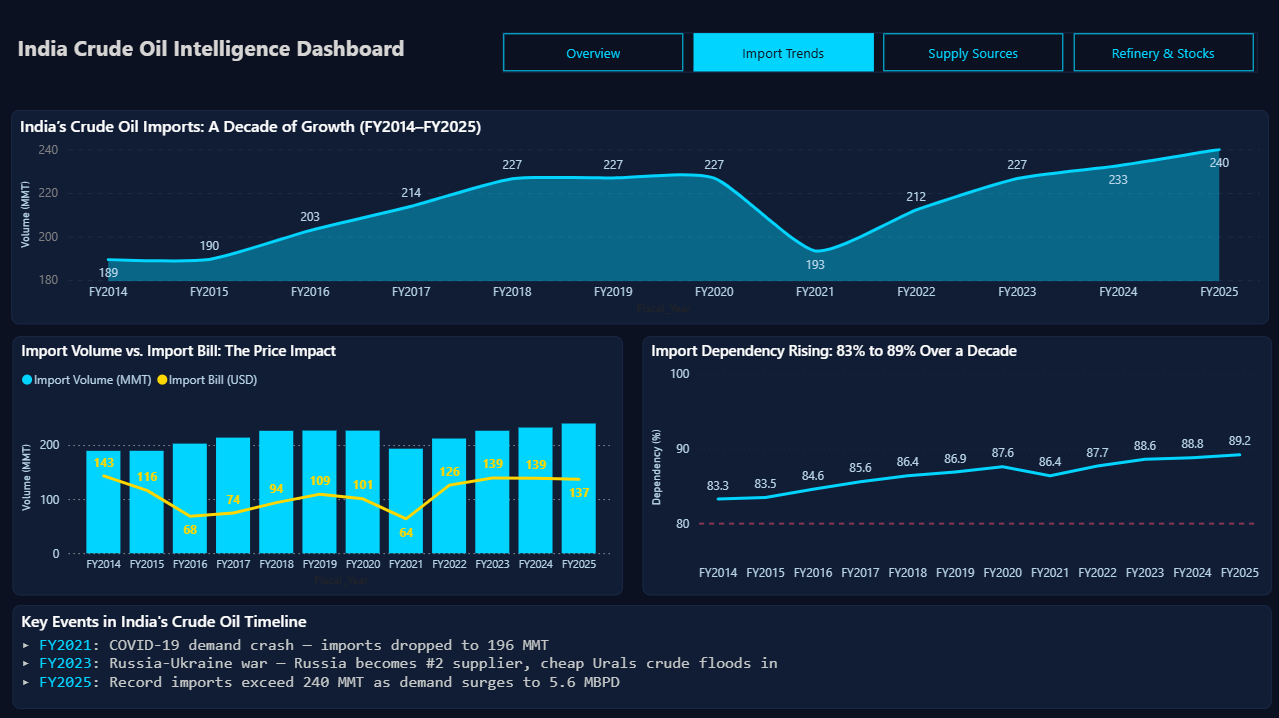

The page's visual inventory and layout, read from the dashboard file:
{"tool":"powerbi","page":{"name":"Import Trends","canvas":[1280,720],"ordinal":1},"visuals":[{"type":"areaChart","title":"India’s Crude Oil Imports: A Decade of Growth (FY2014–FY2025)","fields":{"Category":["CrudeYearlyExtended.Fiscal_Year"],"Y":["Sum(CrudeYearlyExtended.Total_Imports_MMT)"]},"box":[11.5,110.3,1257.7,214.1],"z":0},{"type":"lineClusteredColumnComboChart","title":"Import Volume vs. Import Bill: The Price Impact","fields":{"Category":["CrudeYearlyExtended.Fiscal_Year"],"Y":["Sum(CrudeYearlyExtended.Total_Imports_MMT)"],"Y2":["Sum(CrudeYearlyExtended.Import_Value_USD_Bn)"]},"box":[12.8,335.9,610.3,259],"z":1000},{"type":"lineChart","title":"Import Dependency Rising: 83% to 89% Over a Decade","fields":{"Category":["CrudeYearlyExtended.Fiscal_Year"],"Y":["CrudeYearlyExtended.Import Dependency"]},"box":[642.3,335.9,629.5,259],"z":2000},{"type":"textbox","title":"Key Events in India''s Crude Oil Timeline","box":[12.8,605.1,1259,103.8],"z":3000},{"type":"textbox","box":[12.8,10.3,1259,89.7],"z":3001},{"type":"pageNavigator","box":[503,32,755.1,40],"z":3002}]}

Visuals, with their boxes in screenshot pixels (x1, y1, x2, y2), scaled from the page's 1280x720 canvas onto the 1279x718 screenshot:
"India’s Crude Oil Imports: A Decade of Growth (FY2014–FY2025)" areaChart: box=[11, 110, 1268, 323]
"Import Volume vs. Import Bill: The Price Impact" lineClusteredColumnComboChart: box=[13, 335, 623, 593]
"Import Dependency Rising: 83% to 89% Over a Decade" lineChart: box=[642, 335, 1271, 593]
"Key Events in India''s Crude Oil Timeline" textbox: box=[13, 603, 1271, 707]
textbox: box=[13, 10, 1271, 100]
pageNavigator: box=[503, 32, 1257, 72]
